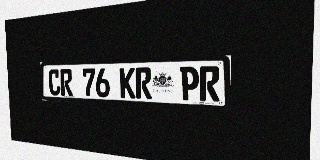6: (95, 68, 110, 97)
7: (82, 68, 96, 97)
C: (48, 69, 61, 96)
K: (120, 68, 135, 98)
P: (180, 66, 199, 101)
R: (200, 66, 220, 101), (135, 67, 152, 99), (60, 69, 73, 96)
